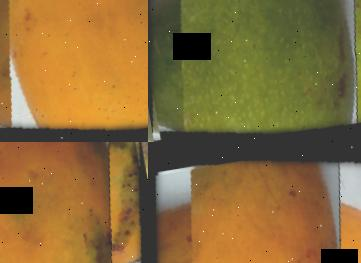PartiallyRipe: (0, 0, 148, 142)
Ripe: (148, 142, 361, 263), (0, 142, 148, 263)
Unripe: (148, 0, 361, 142)
